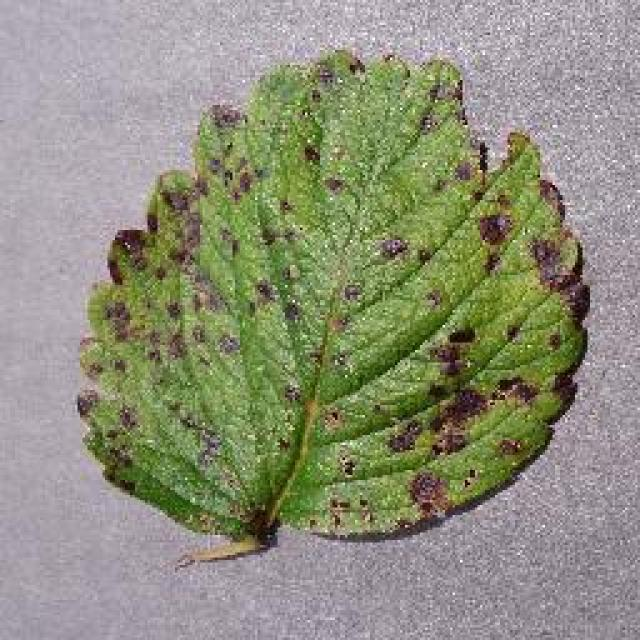Strawberry leaf scorch: (178, 162, 508, 465)
